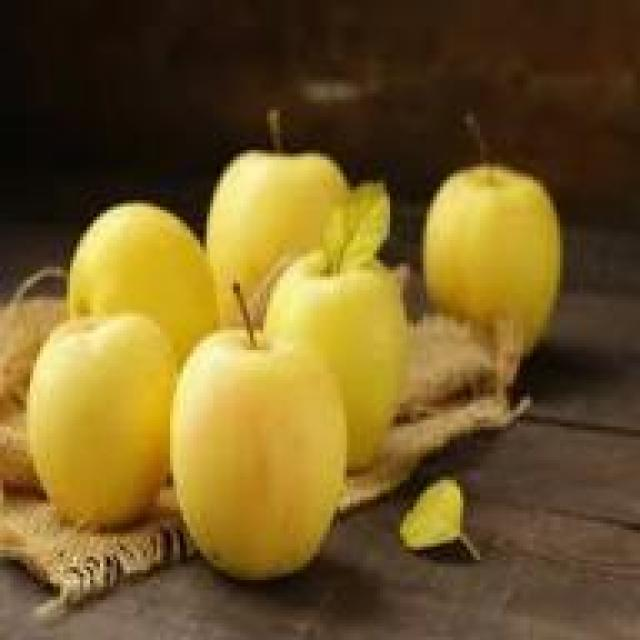apple: (170, 336, 343, 576), (267, 243, 410, 460), (23, 313, 170, 517), (420, 154, 567, 354), (206, 133, 356, 320), (66, 204, 216, 374)
